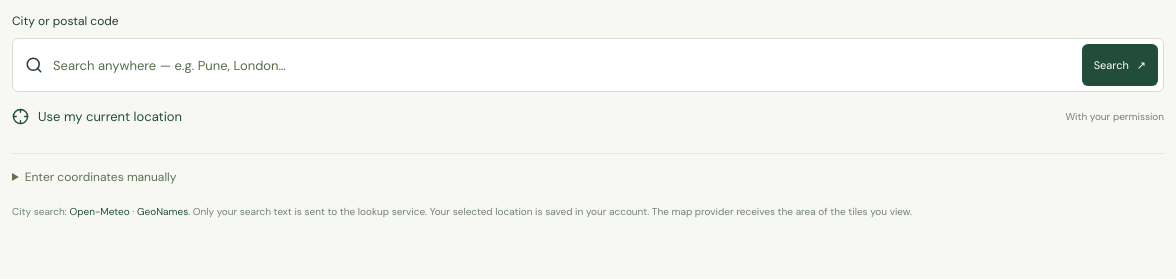
shows an API outage and keeps selection disabled instead of inventing a city
Type "Paris" into the field with placeholder "Search anywhere — e.g. Pune, London…" at coordinates (562, 65), box [53,48,1072,82]
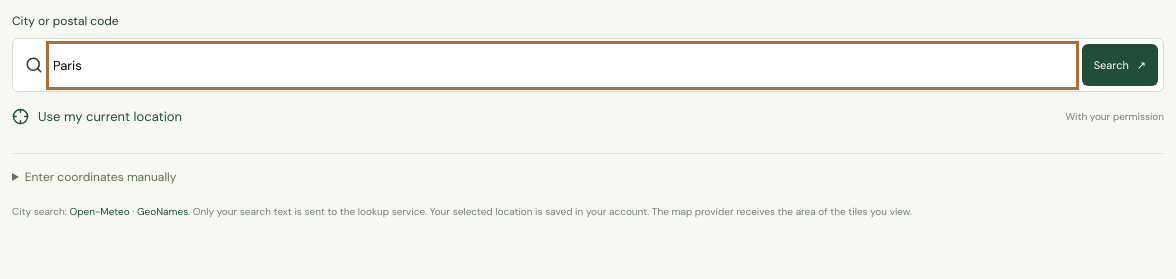
Click the button "Search ↗" at coordinates (1120, 65), box [1082,44,1158,86]
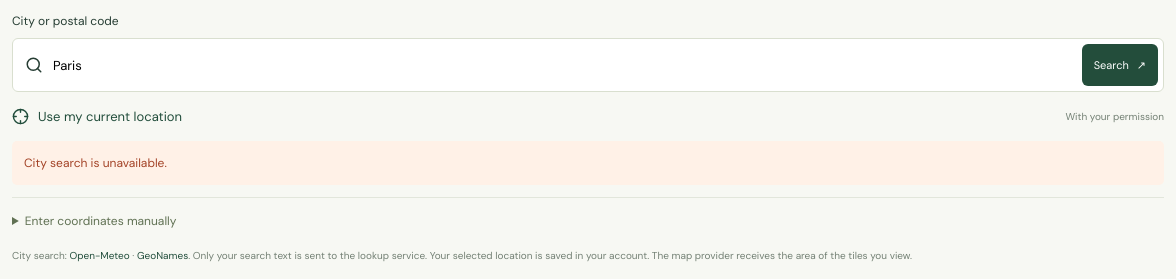
Expected: the message reads "City search is unavailable.", [24,155,167,171]
